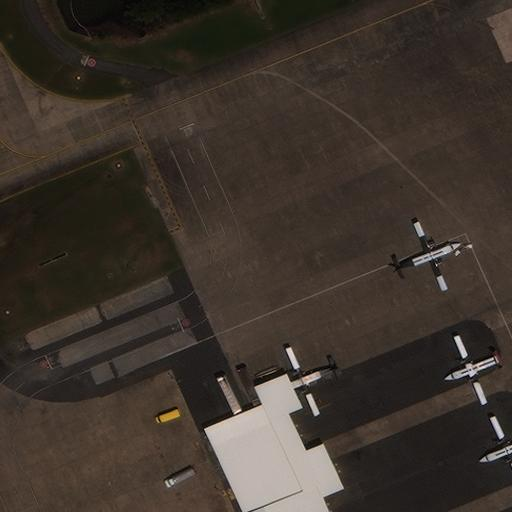Medium Civil Transport: (275, 349, 339, 418), (395, 221, 459, 289), (443, 337, 499, 405), (478, 418, 512, 479)
